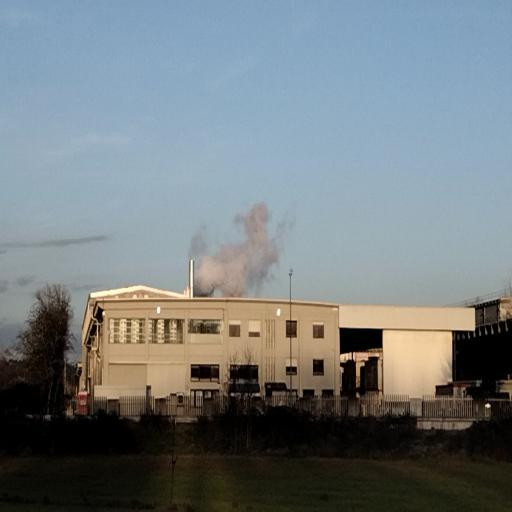leakage: (186, 194, 296, 298)
